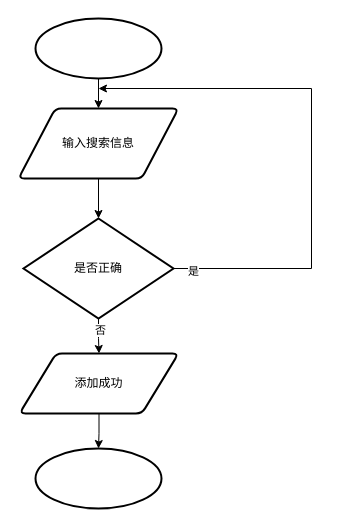
Some shapes in this 337 by 526 pixel diagram are drawn without their labels. The centre of each missing label's shape, as x and y in pixels:
开始: (x=98, y=48)
结束: (x=98, y=478)
